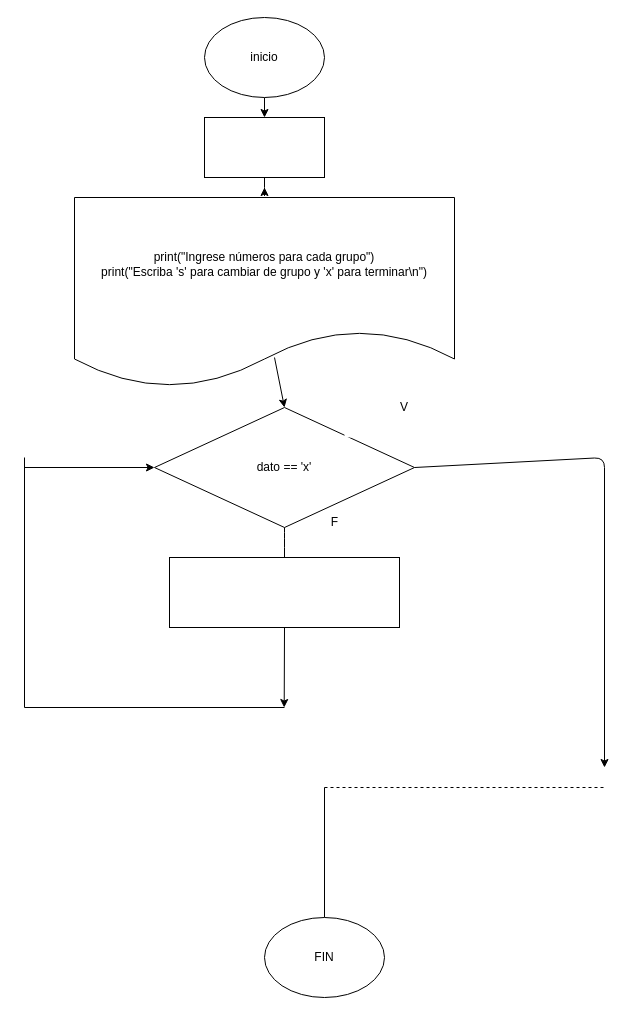
Some shapes in this 630 by 1015 pixel diagram are drawn without their labels. The shapes that lost their labels are listed below. From the top down, each one's centre as x and y in pixels, then its label:
[264,147]: grupo=| suma=0
[284,592]: dato = input(f"[Grupo {grupo}] Ingrese un número: ").lower() suma += float(dato)
